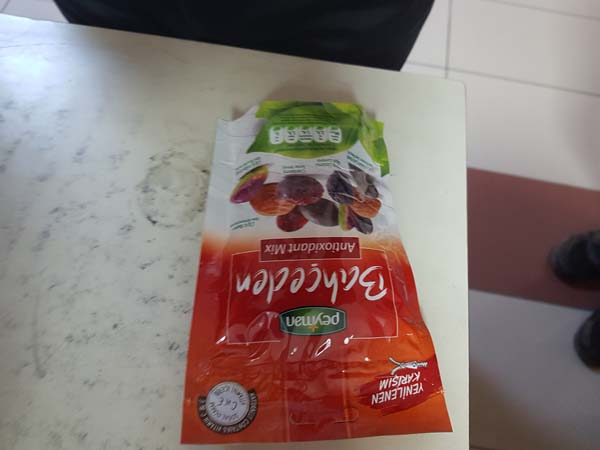bahcedenantioxidan: (178, 95, 459, 443)
